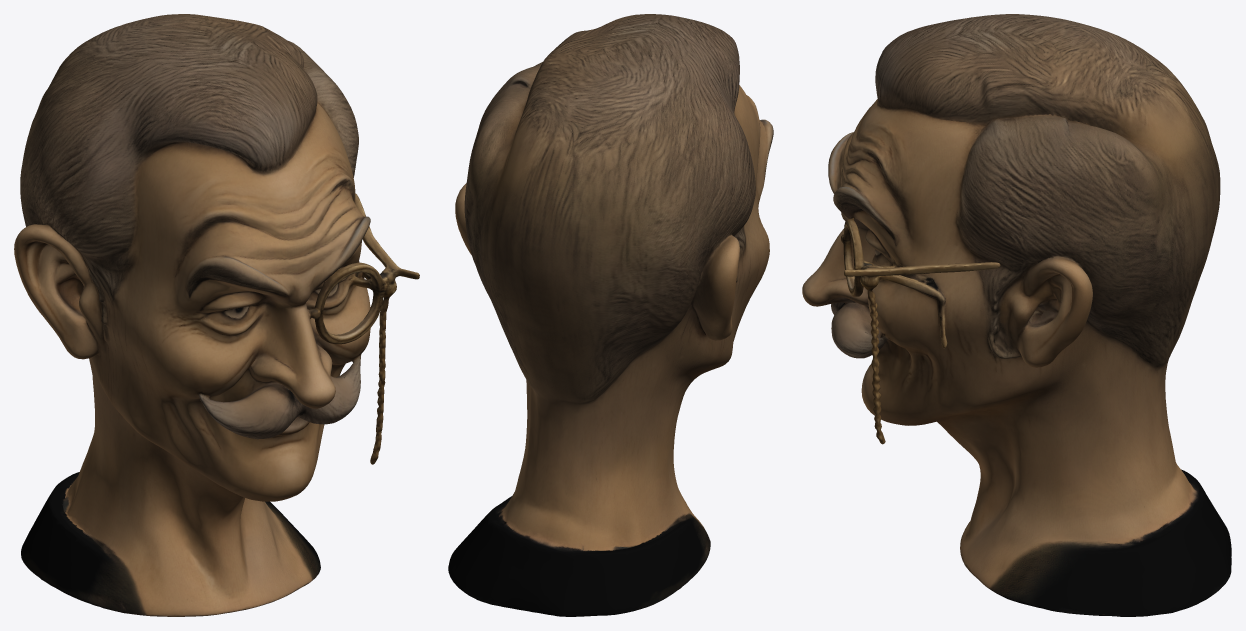
File: cavalheiro__qwen21t__jogo__s2026.glb
The picture shows the model from 3 angles, left to right: view 1: azimuth 30°, elevation 25°; view 2: azimuth 150°, elevation 25°; view 3: azimuth 270°, elevation 25°; orthographic projection. The views are drawn at different scales.
Size of the model in its own units: 0.5843 by 0.9985 by 0.7389.
1 material, 1 textured.
